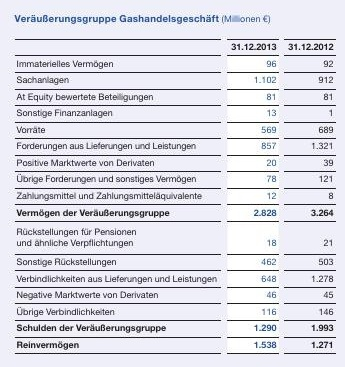table: (0, 0, 345, 367)
